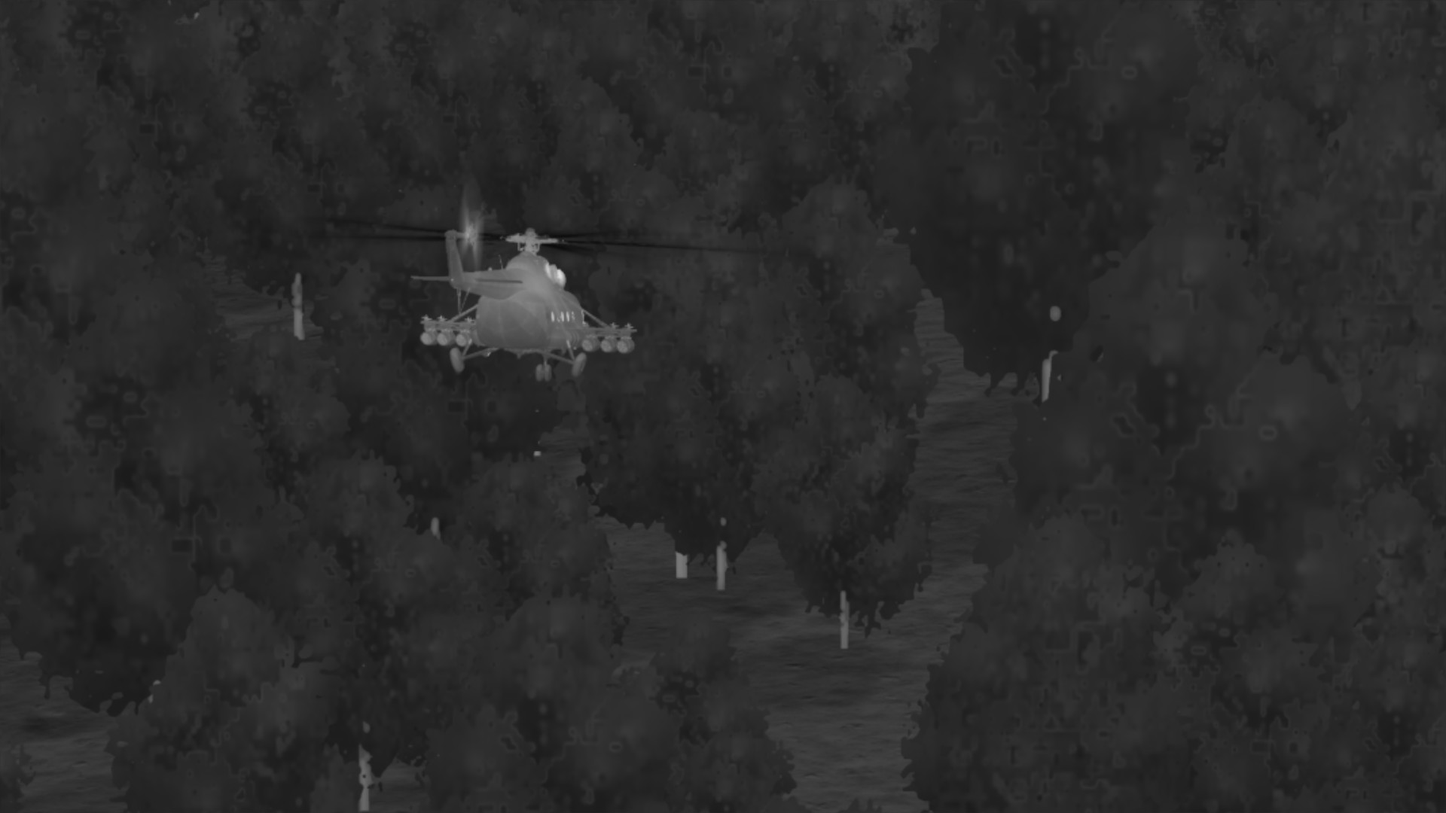mi8: (417, 229, 636, 384)
